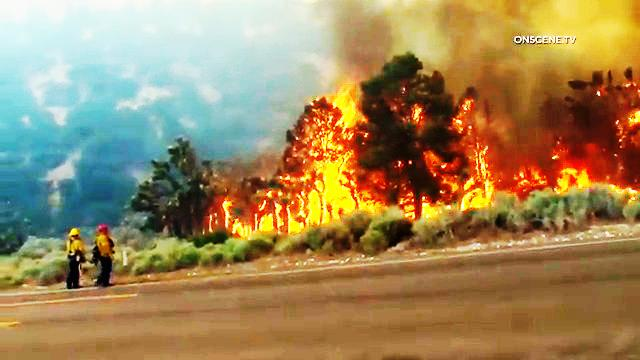fire: (295, 102, 360, 210), (554, 159, 591, 195), (462, 175, 495, 214)
smoke: (300, 9, 485, 60)
